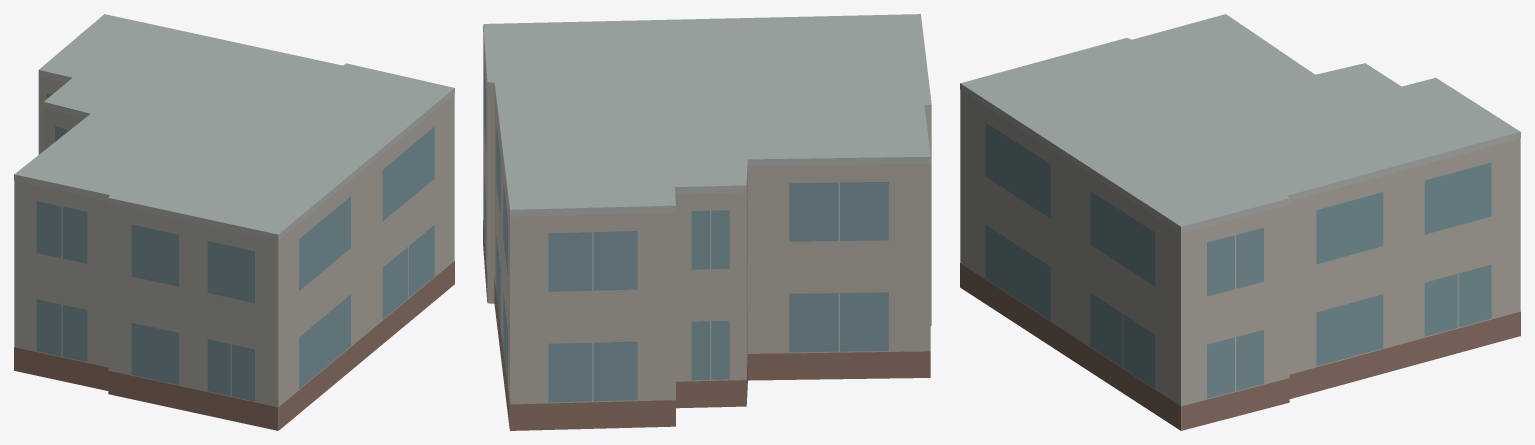
Rendered from survey-upis-32625513.glb.
The picture shows the model from 3 angles, left to right: view 1: azimuth 30°, elevation 25°; view 2: azimuth 150°, elevation 25°; view 3: azimuth 270°, elevation 25°; orthographic projection. The views are drawn at different scales.
Parts seen in each view (by area): view 1: survey-upis-32625513.tmp; view 2: survey-upis-32625513.tmp; view 3: survey-upis-32625513.tmp.
Part boxes in pixels (<box>): survey-upis-32625513.tmp: <box>14,14,454,430</box>; survey-upis-32625513.tmp: <box>483,14,931,430</box>; survey-upis-32625513.tmp: <box>960,14,1520,430</box>.
Bounding box in the file's own units: 17.21 × 7.7 × 19.17.
